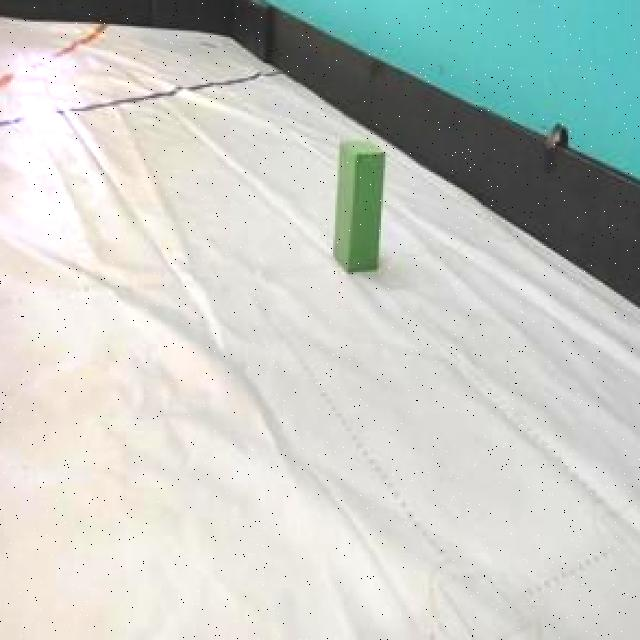greenbox: (336, 142, 388, 276)
